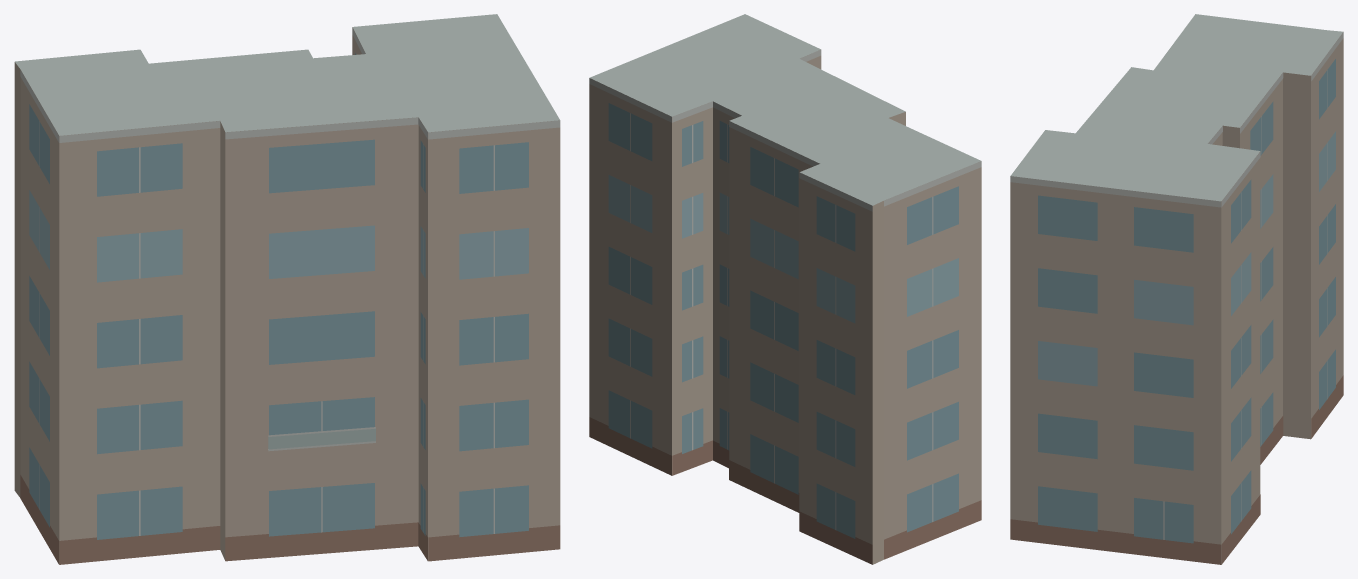
Rendered from survey-upis-32660717.glb.
3 renders of one model, left to right at view 1: azimuth 30°, elevation 25°; view 2: azimuth 150°, elevation 25°; view 3: azimuth 270°, elevation 25°, orthographic. The views are drawn at different scales.
Visible parts, largest first — view 1: survey-upis-32660717.tmp; view 2: survey-upis-32660717.tmp; view 3: survey-upis-32660717.tmp.
Part boxes in pixels (x1=…): survey-upis-32660717.tmp: x1=14, y1=14, x2=560, y2=564; survey-upis-32660717.tmp: x1=589, y1=14, x2=981, y2=564; survey-upis-32660717.tmp: x1=1010, y1=14, x2=1343, y2=564.
Bounding box in the file's own units: 16.05 × 14.5 × 12.06.
